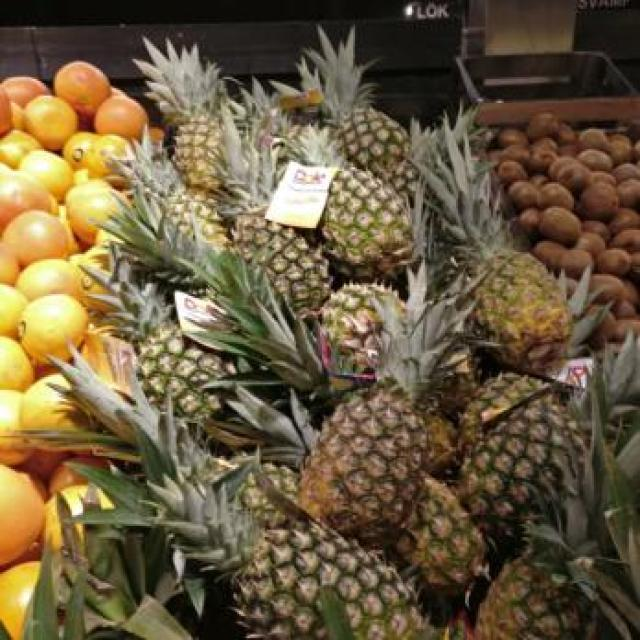pineapple: (61, 352, 425, 640), (300, 260, 474, 543), (414, 111, 571, 373), (459, 336, 640, 562), (106, 254, 234, 421), (298, 26, 414, 197), (222, 148, 330, 318), (135, 38, 225, 192), (125, 140, 229, 248), (320, 166, 410, 281), (398, 475, 485, 592), (477, 558, 591, 640), (321, 285, 392, 376), (284, 125, 344, 166)
